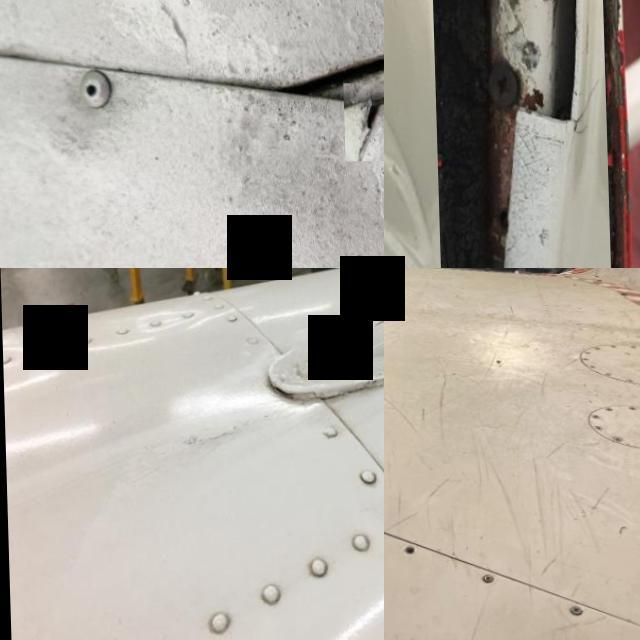Crack: (429, 0, 614, 268), (249, 343, 384, 416), (143, 416, 238, 482), (341, 83, 384, 161)
Missing_Fastener: (396, 546, 414, 557)
